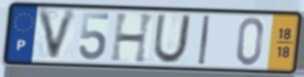0: (234, 16, 266, 68)
5: (77, 11, 111, 62)
H: (109, 12, 157, 65)
I: (196, 14, 212, 67)
U: (151, 14, 194, 66)
V: (35, 7, 80, 65)
